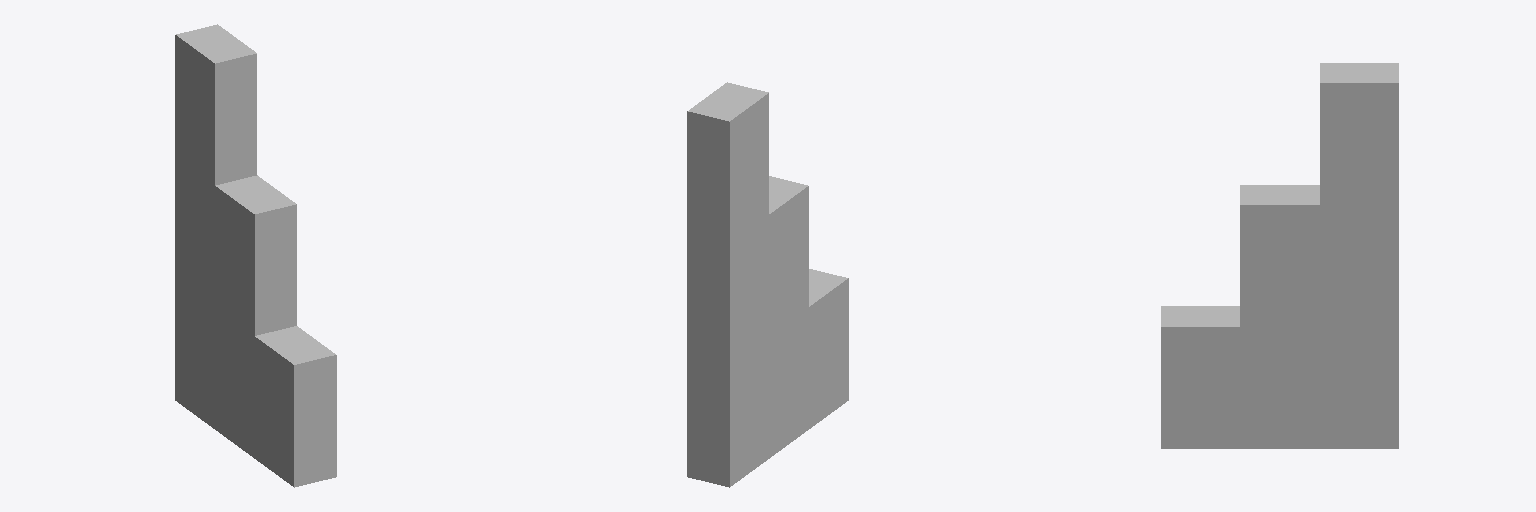
Rendered from speaker_mur.obj.
The picture shows the model from 3 angles: view 1: azimuth 30°, elevation 25°; view 2: azimuth 150°, elevation 25°; view 3: azimuth 270°, elevation 25°; orthographic projection.
Parts seen in each view (by area): view 1: Cube.004_Cube.021; view 2: Cube.004_Cube.021; view 3: Cube.004_Cube.021.
Boxes of the visible parts, x1,y1,x2,y2 form: Cube.004_Cube.021: [175, 24, 336, 487]; Cube.004_Cube.021: [687, 82, 848, 487]; Cube.004_Cube.021: [1161, 63, 1398, 448].
Bounding box in the file's own units: 1.24 × 10.21 × 6.